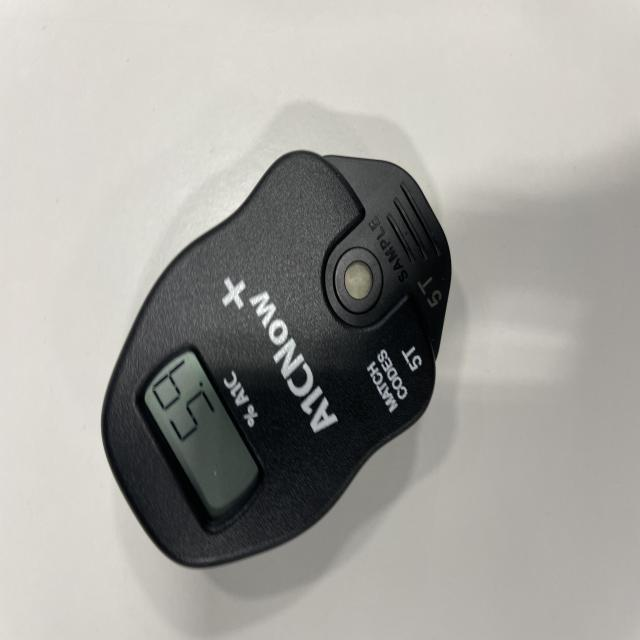hba1c: (100, 151, 453, 572)
